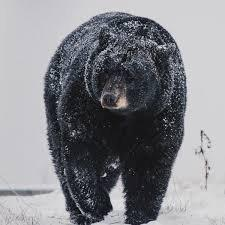bear: (43, 12, 189, 225)
